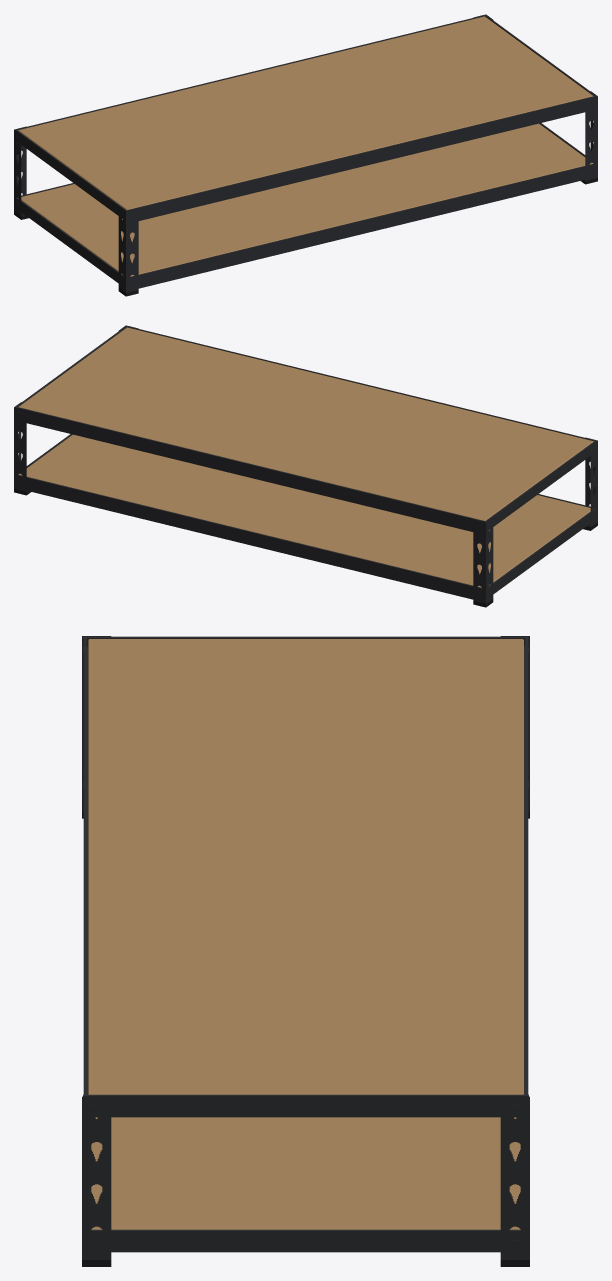
Rendered from shelf.glb.
The picture shows the model from 3 angles, top to bottom: view 1: azimuth 30°, elevation 25°; view 2: azimuth 150°, elevation 25°; view 3: azimuth 270°, elevation 25°; orthographic projection. The views are drawn at different scales.
Parts seen in each view (by area): view 1: Shelf; view 2: Shelf; view 3: Shelf.
Part boxes in pixels (<box>): Shelf: <box>14,14,597,296</box>; Shelf: <box>14,325,597,607</box>; Shelf: <box>82,636,529,1266</box>.
Size of the model in its own units: 2.8 by 0.4825 by 1.15.
4 materials, 1 textured.
